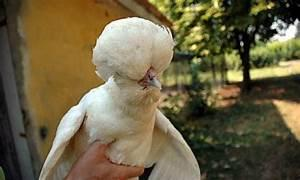hen: (37, 16, 201, 179)
